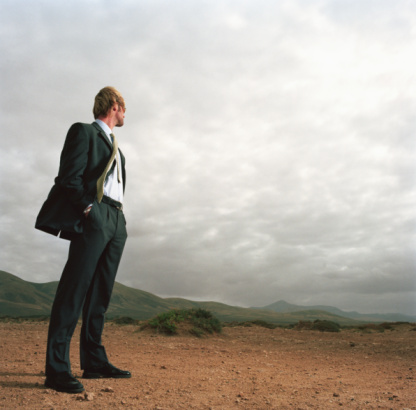em pe: (31, 69, 135, 386)
